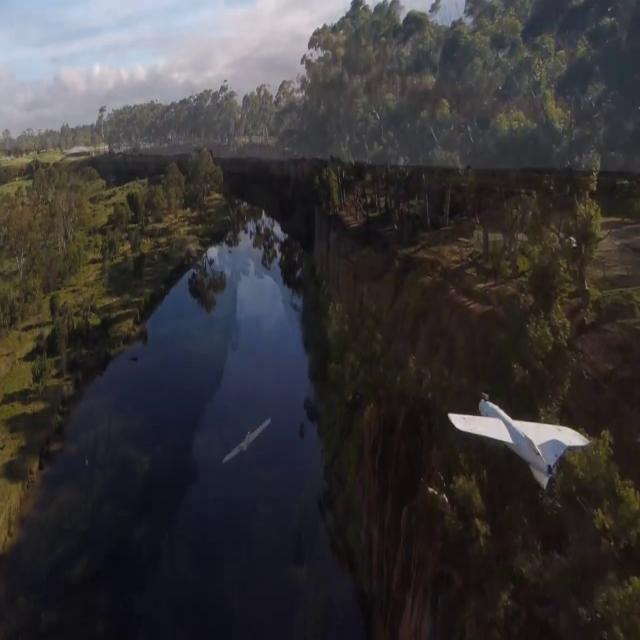iha: (441, 419, 591, 461)
